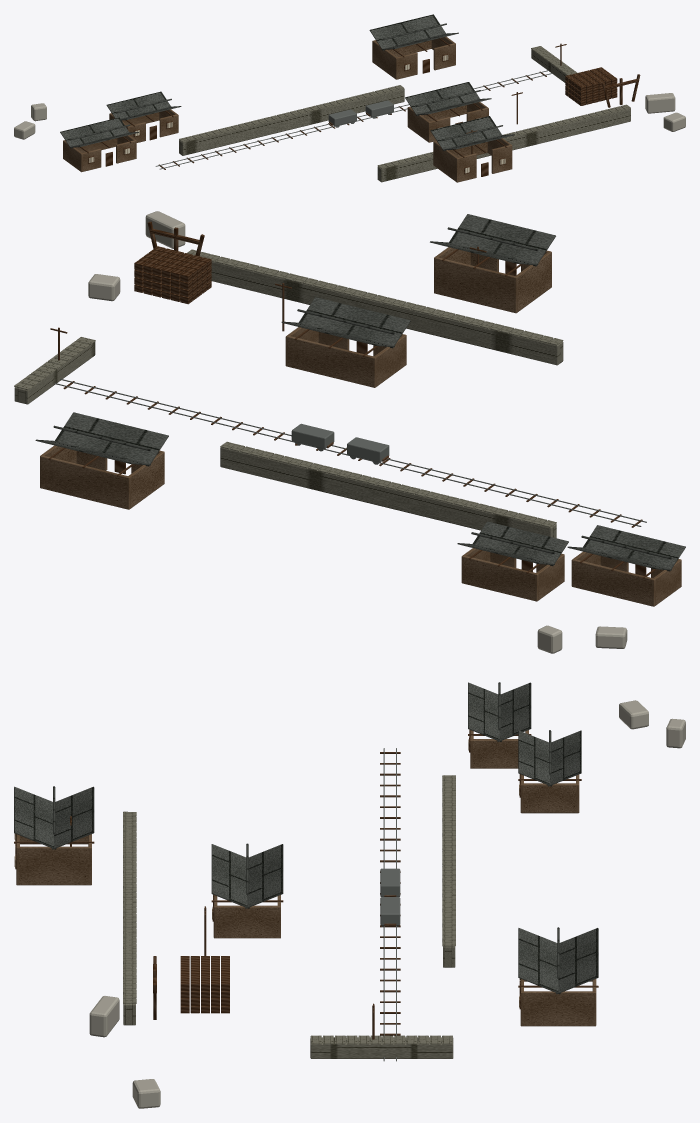
Rendered from Model_EnvironmentQuarrySlope.glb.
3 renders of one model, top to bottom at view 1: azimuth 30°, elevation 25°; view 2: azimuth 150°, elevation 25°; view 3: azimuth 270°, elevation 25°, orthographic. The views are drawn at different scales.
Parts seen in each view (by area): view 1: Model_EnvironmentQuarrySlope; view 2: Model_EnvironmentQuarrySlope; view 3: Model_EnvironmentQuarrySlope.
Part boxes in pixels (left/top/right/bottom): Model_EnvironmentQuarrySlope: left=14, top=14, right=685, bottom=182; Model_EnvironmentQuarrySlope: left=14, top=211, right=685, bottom=653; Model_EnvironmentQuarrySlope: left=14, top=682, right=685, bottom=1108.
Bounding box in the file's own units: 111 × 15.24 × 79.95.
7 materials, 4 textured.
